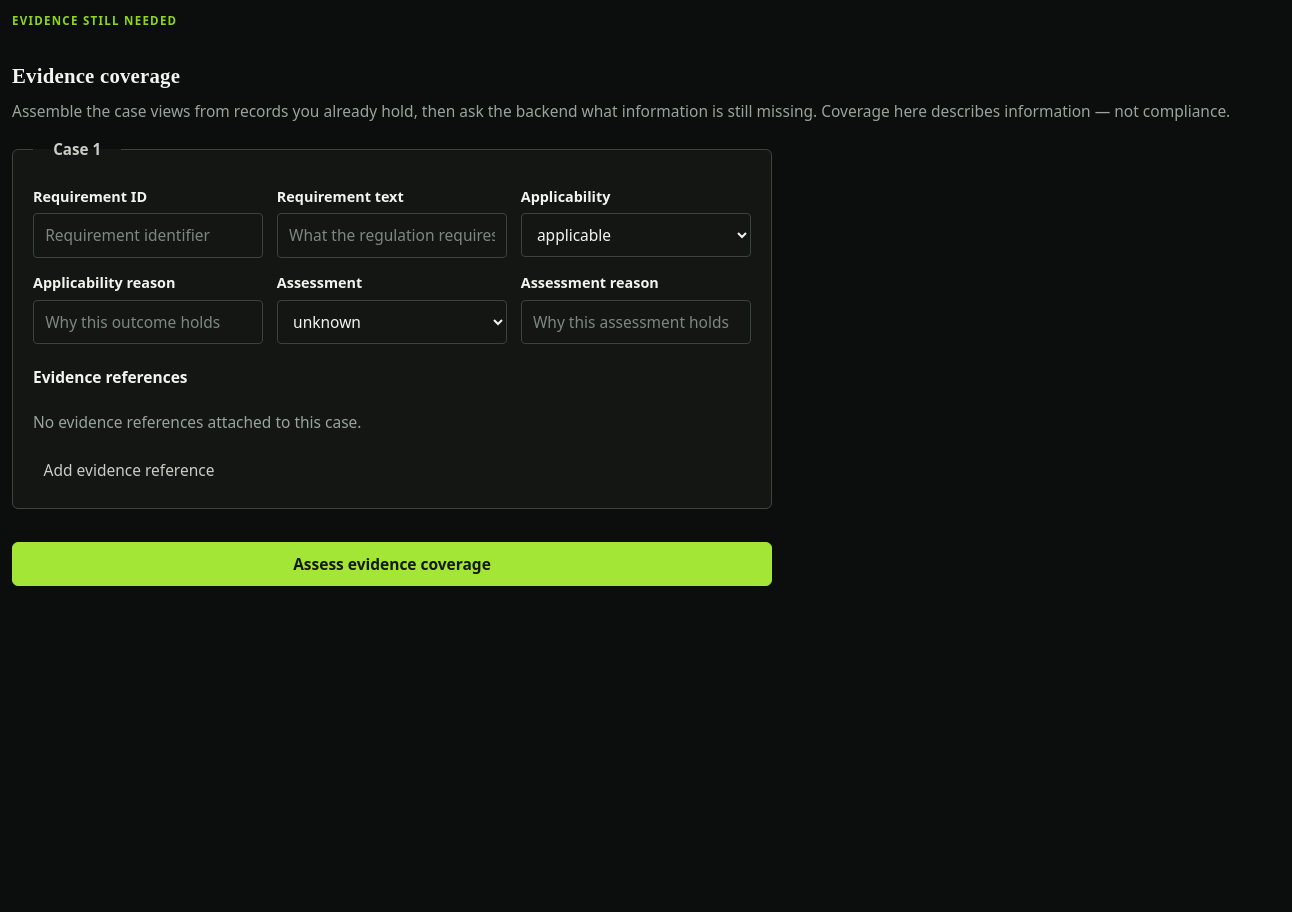
Test case: GapsPage › renders a ready state without inventing meaning
The image size is (1292, 912).
In the field labelled "Requirement ID": (148, 236) [33,213,263,258], type "req-1"
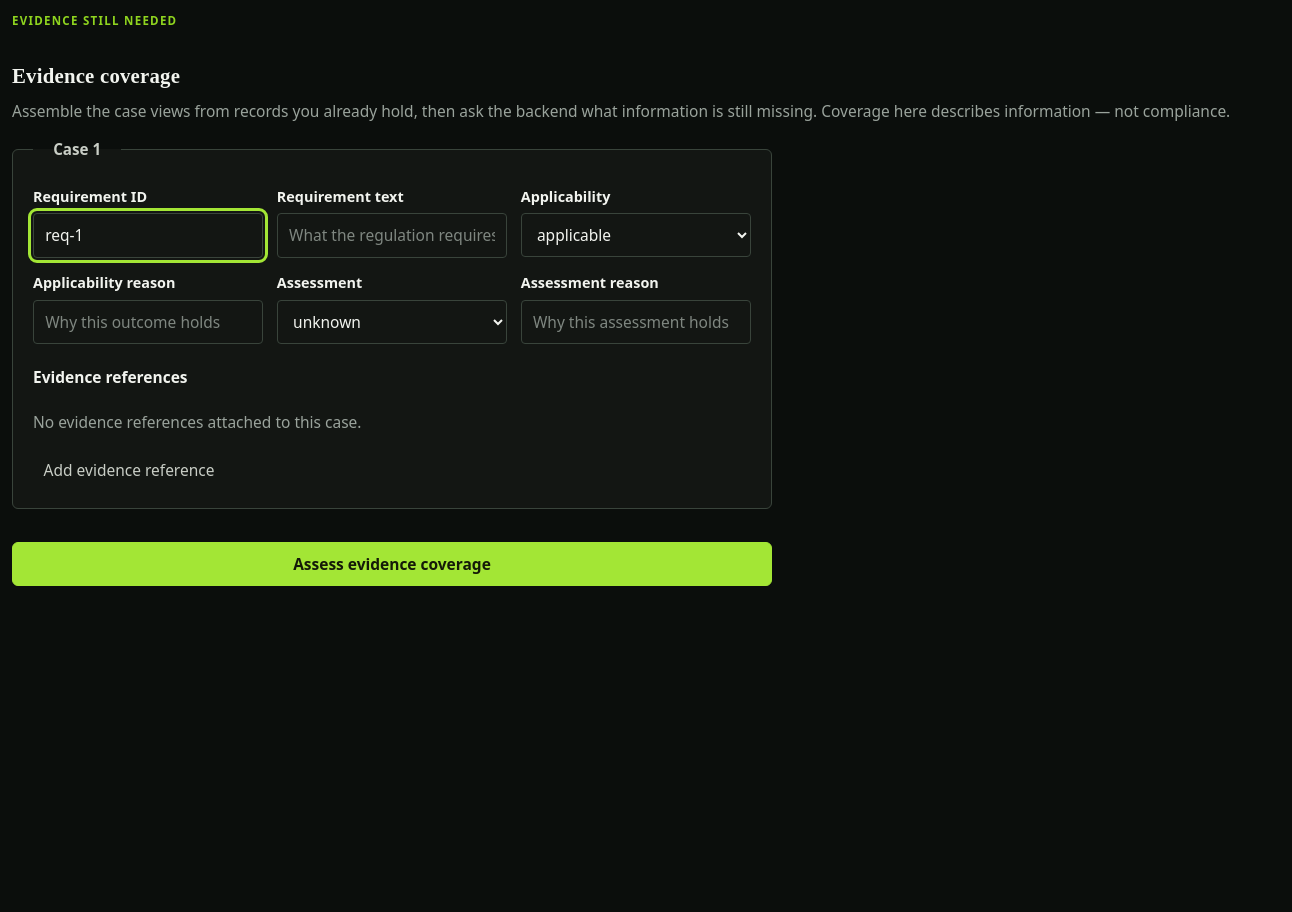
In the field labelled "Requirement text": (392, 236) [277,213,507,258], type "File form X."
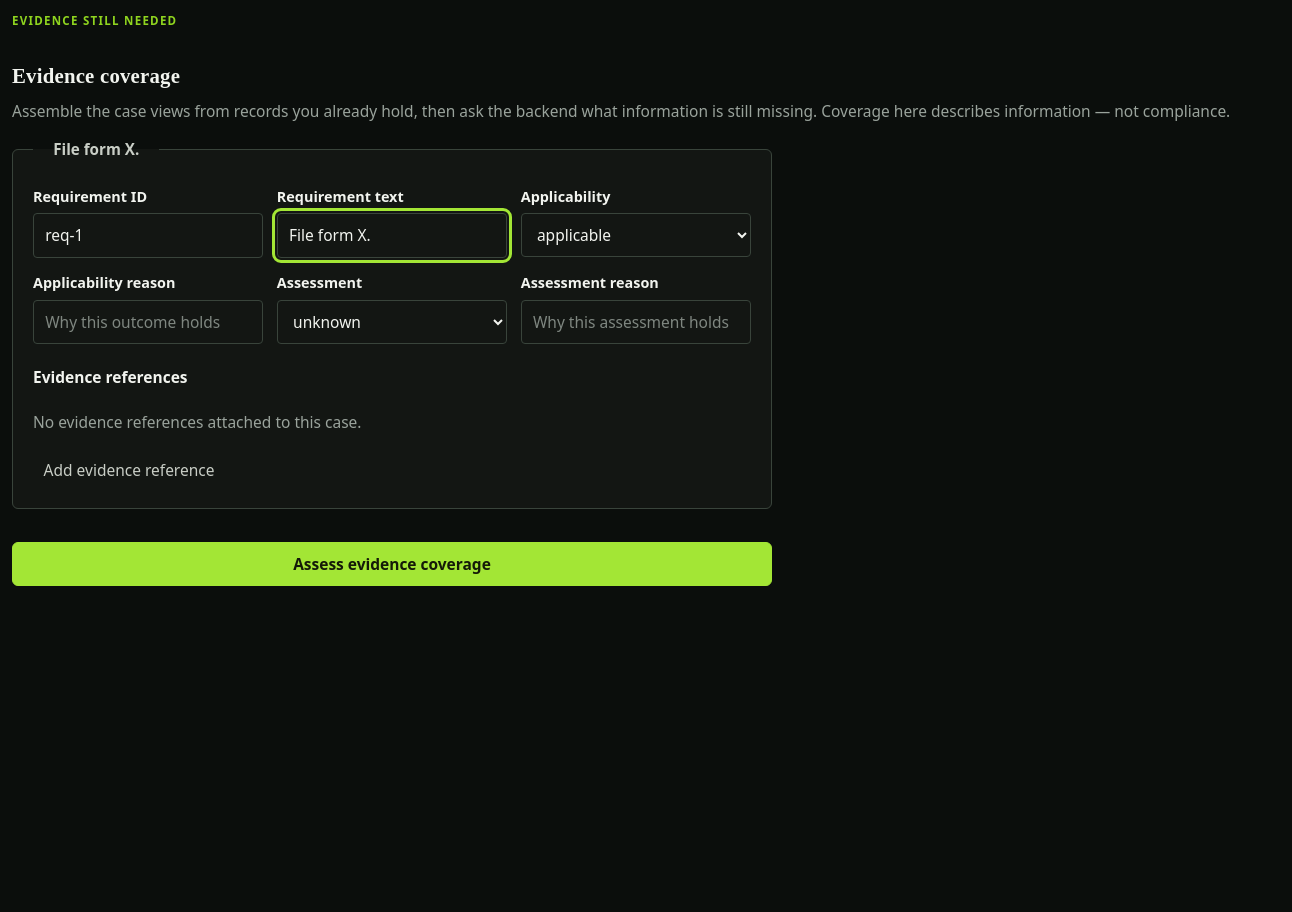
Click the button "Assess evidence coverage": (392, 564) [12,542,772,586]
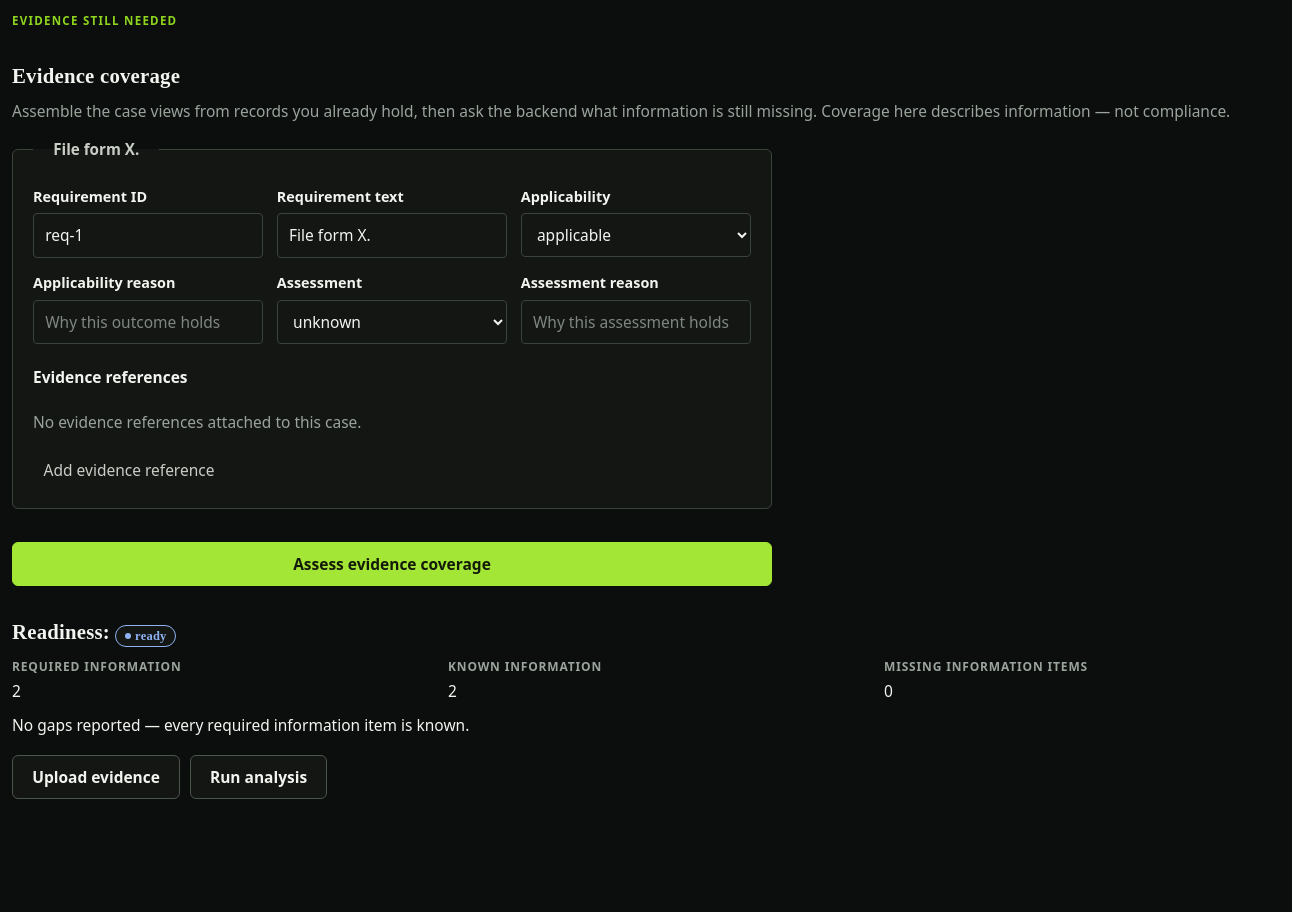
Check: the text "ready" is shown, box [115,625,176,647]
Check: the text "No gaps reported — every required information item is known." is shown, box [12,714,469,736]
